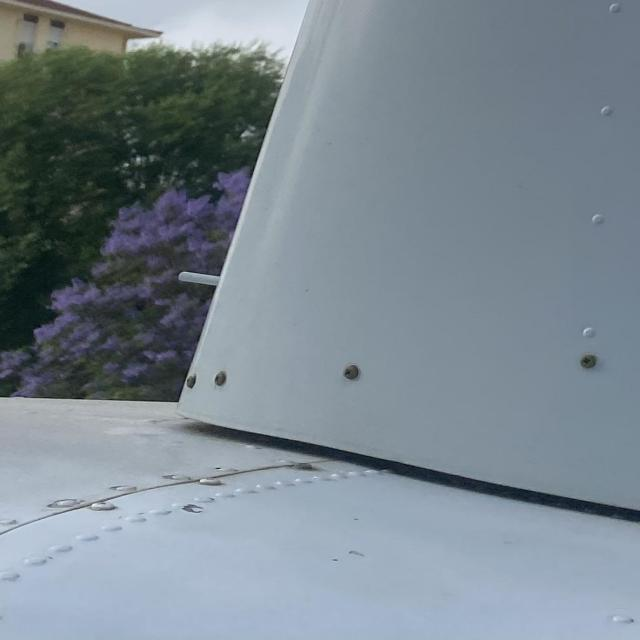Paint-off: (339, 544, 367, 560), (178, 503, 205, 515), (329, 557, 341, 563), (353, 517, 359, 521)
